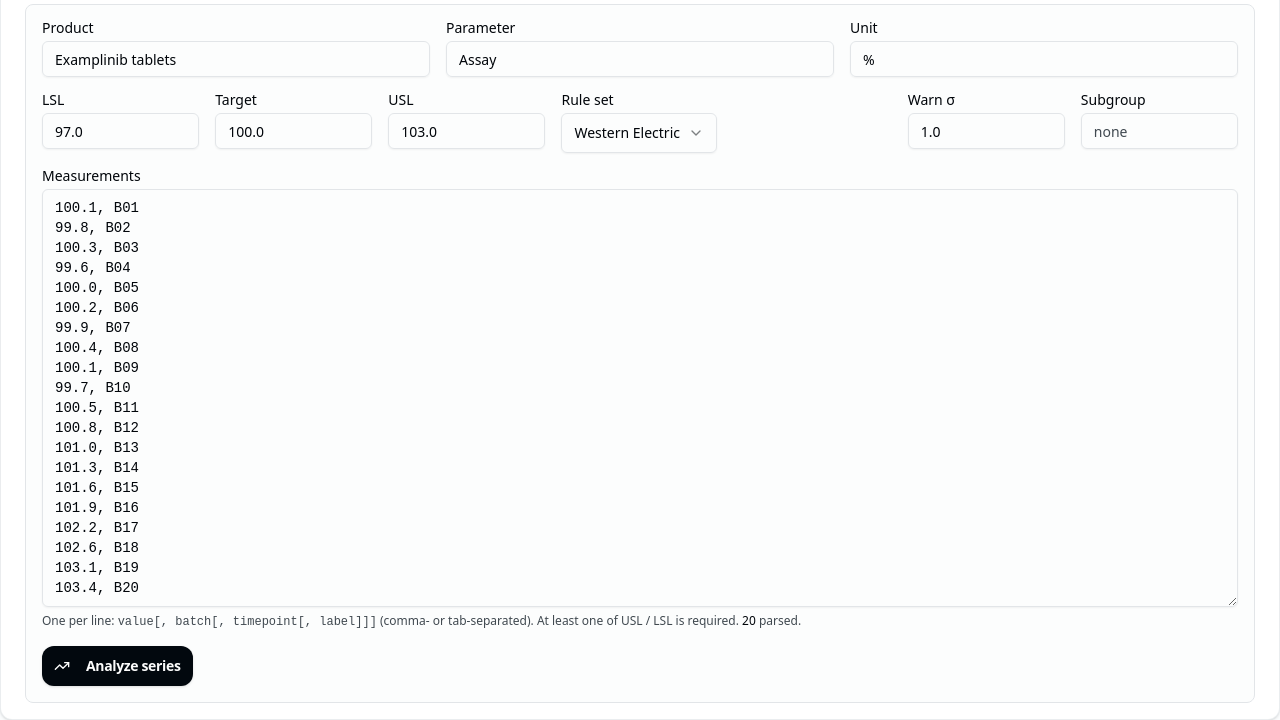
Test: SPCProcessCapabilityPanel › blocks analysis with fewer than two measurements (no fetch)
The image size is (1280, 720).
(page scrolled)
Clear the text box labelled "Measurements" at (640, 398), box top-left (42, 189), bottom-right (1238, 607)
(page scrolled)
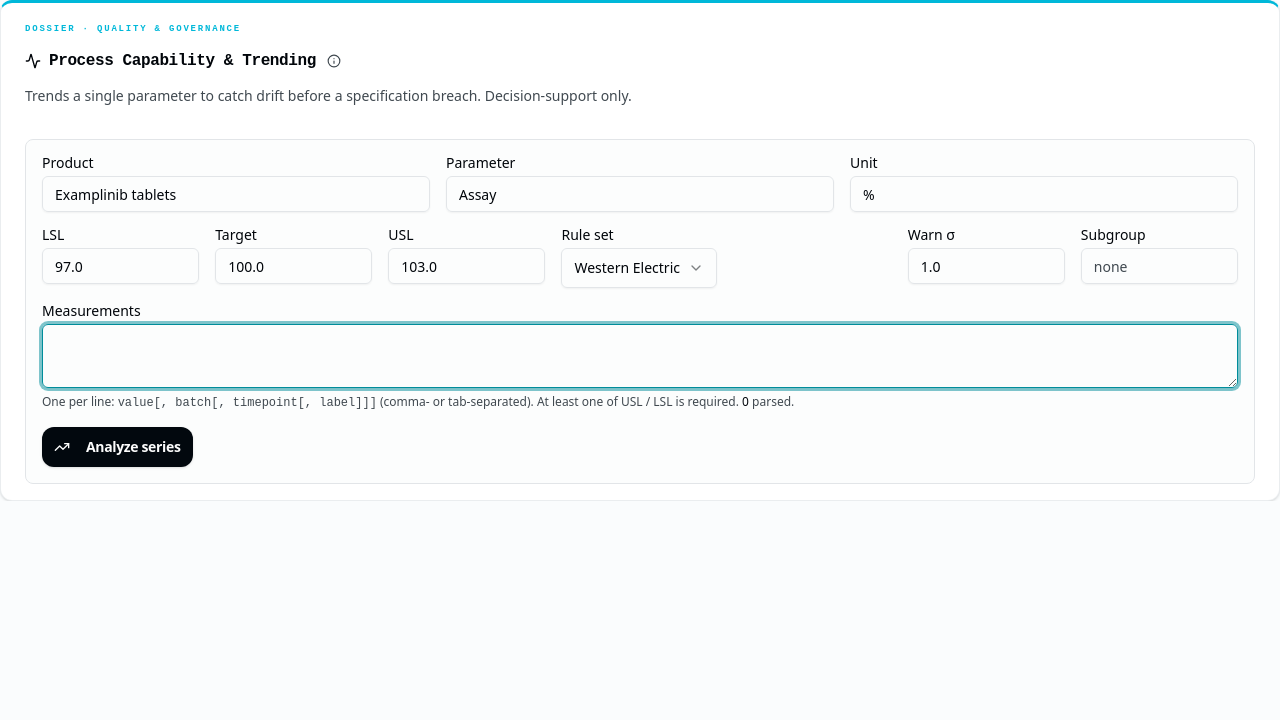
Type "100.0" into the text box labelled "Measurements" at (640, 356), box top-left (42, 324), bottom-right (1238, 388)
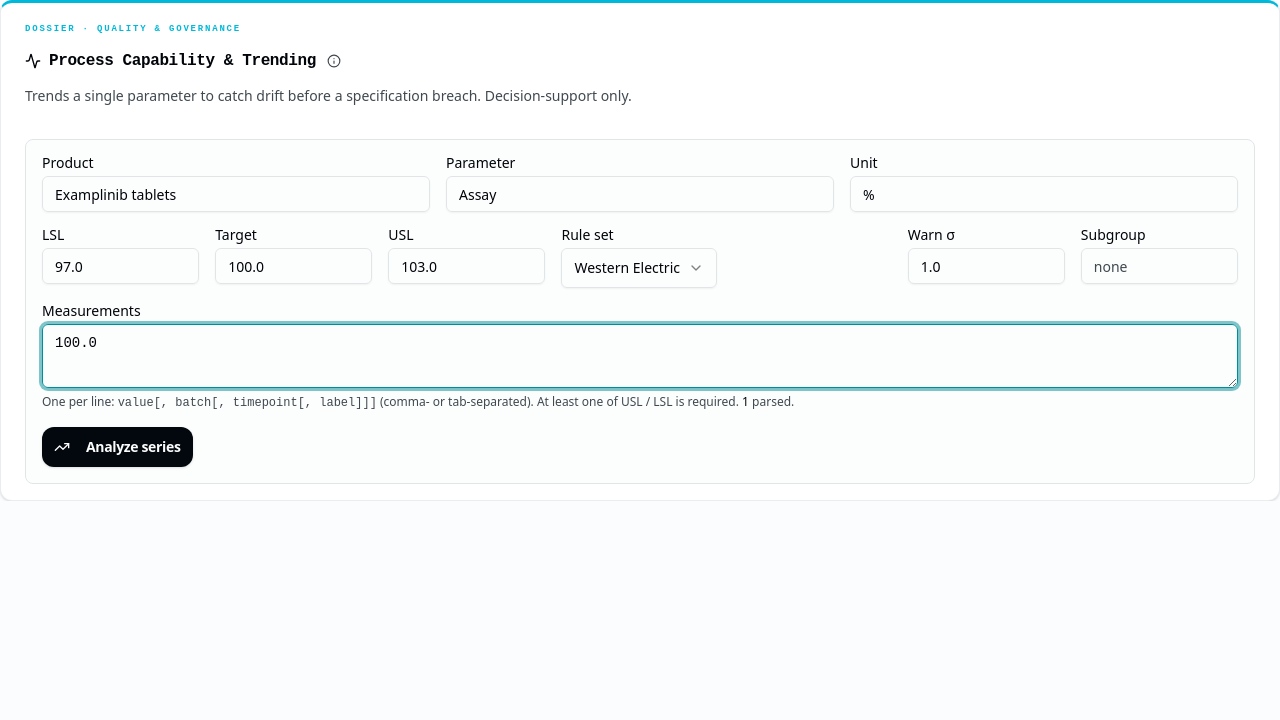
Click the button "Analyze series" at (117, 447), box top-left (42, 427), bottom-right (192, 467)
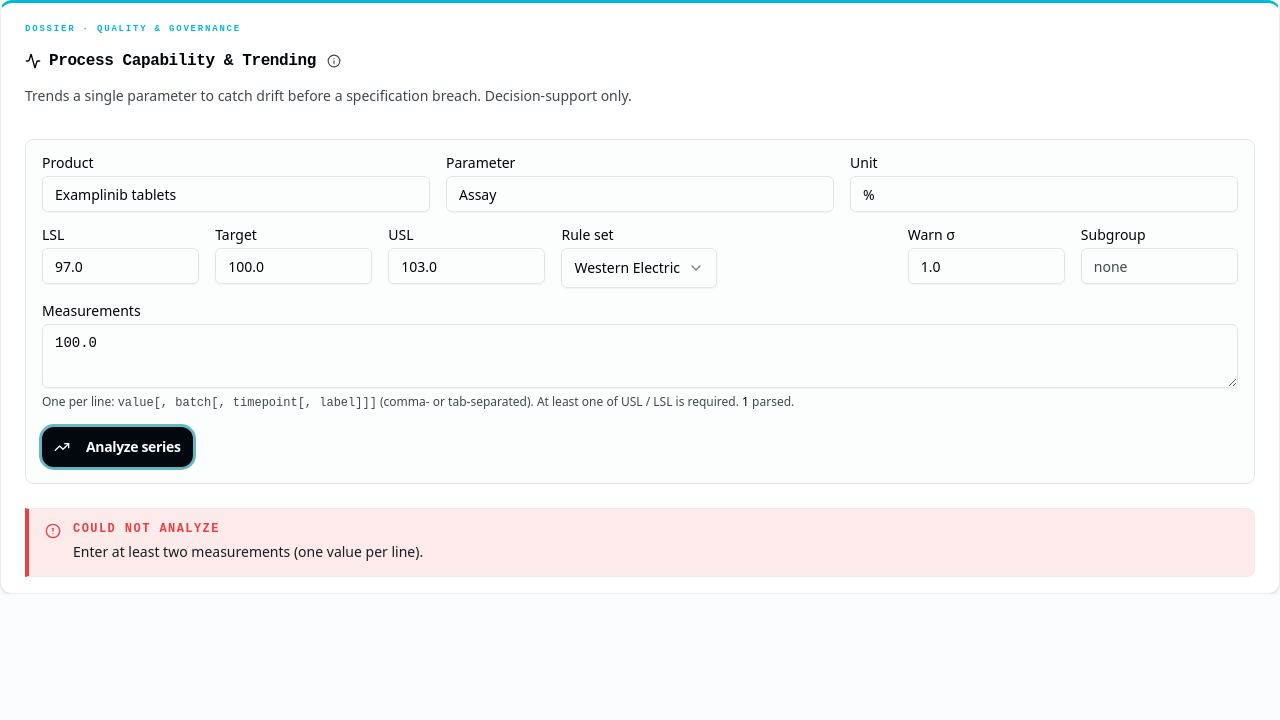
Now the text "Enter at least two measurements (one value per line)." is shown, box top-left (73, 541), bottom-right (423, 564)
